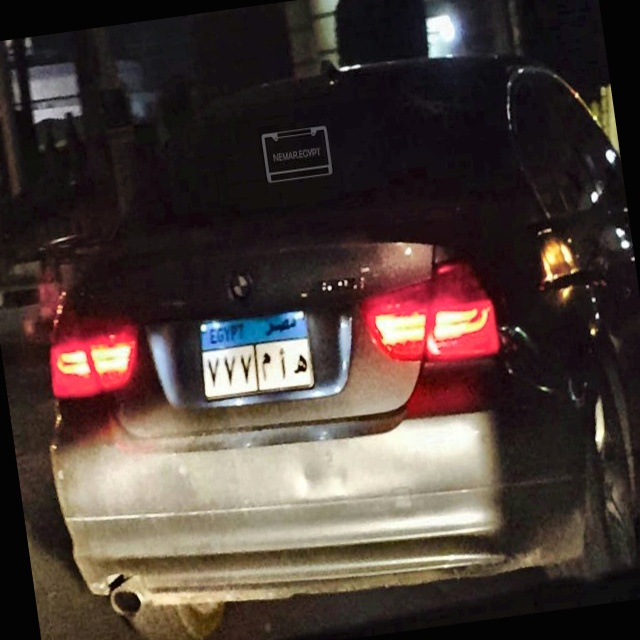License Plate: (192, 302, 320, 409)
